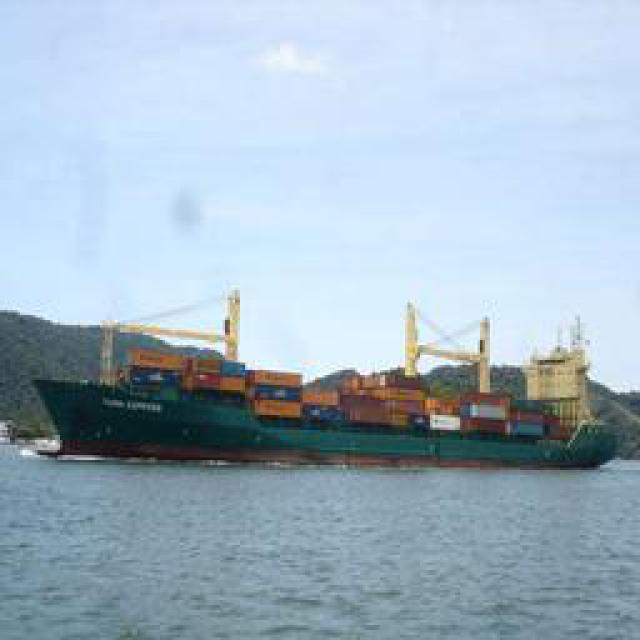Ship: (20, 312, 625, 475)
